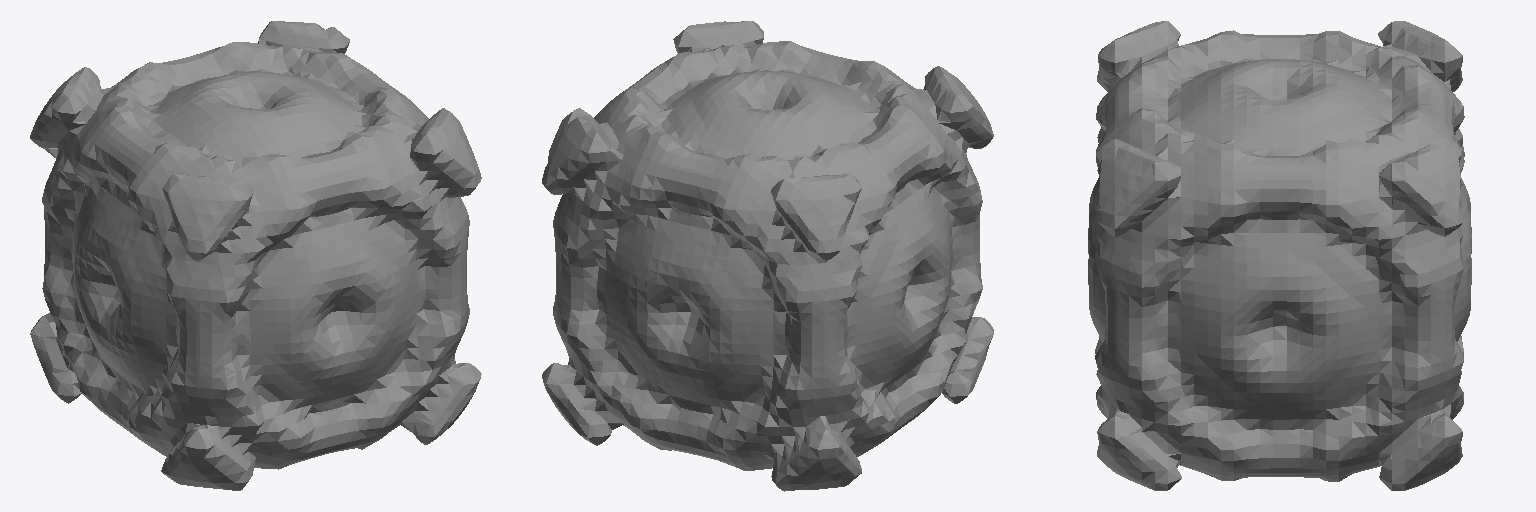
URDF robot description (cube.urdf):
<?xml version="0.0" ?> 
<robot name="cube.urdf"> 
<link name="legobrick"> 
<contact> 
<lateral_friction value="5.0"/> 
<rolling_friction value="0.0"/> 
<contact_cfm value="0.0"/> 
<contact_erp value="1.0"/> 
</contact> 
<inertial> 
<origin rpy="0 0 0" xyz="0.0 0.0 0.0"/> 
<mass value=".01"/> 
<inertia ixx="1" ixy="0" ixz="0" iyy="1" iyz="0" izz="1"/> 
</inertial> 
<visual> 
<origin rpy="1.570796 0 0" xyz="-0.025950463850478472 0.025918262705517746 -0.025964123667596768"/> 
<geometry> 
<mesh filename="C25_3.obj" scale="0.0006998898477488259 0.0006998898477488259 0.0006998898477488259"/> 
</geometry> 
<material name="yellow"> 
<color rgba="0.6 0.6 0.6 1"/> 
</material> 
</visual> 
<collision> 
<origin rpy="1.570796 0 0" xyz="-0.025950463850478472 0.025918262705517746 -0.025964123667596768"/> 
<geometry> 
<mesh filename="C25_3.obj" scale="0.0006998898477488259 0.0006998898477488259 0.0006998898477488259"/> 
</geometry> 
</collision> 
</link> 
</robot>

--- What the picture shows (computed from the rendered views, not written in the file) ---
Views: 3 orthographic renders of the robot side by side, from view 1: azimuth 30°, elevation 25°; view 2: azimuth 150°, elevation 25°; view 3: azimuth 270°, elevation 25°.
Robot: cube.urdf — 1 links, 0 joints (none); root link legobrick; default pose: all joints at 0.
Links seen in each view (by area): view 1: legobrick; view 2: legobrick; view 3: legobrick.
Boxes of the visible links, x1,y1,x2,y2 form: legobrick: [30, 21, 481, 490]; legobrick: [542, 21, 993, 491]; legobrick: [1088, 21, 1471, 490].
Size in the robot's own frame: 0.056 by 0.056 by 0.056 metres.
Meshes: 1 distinct files referenced, 1 mesh visuals loaded (1 OBJ).
